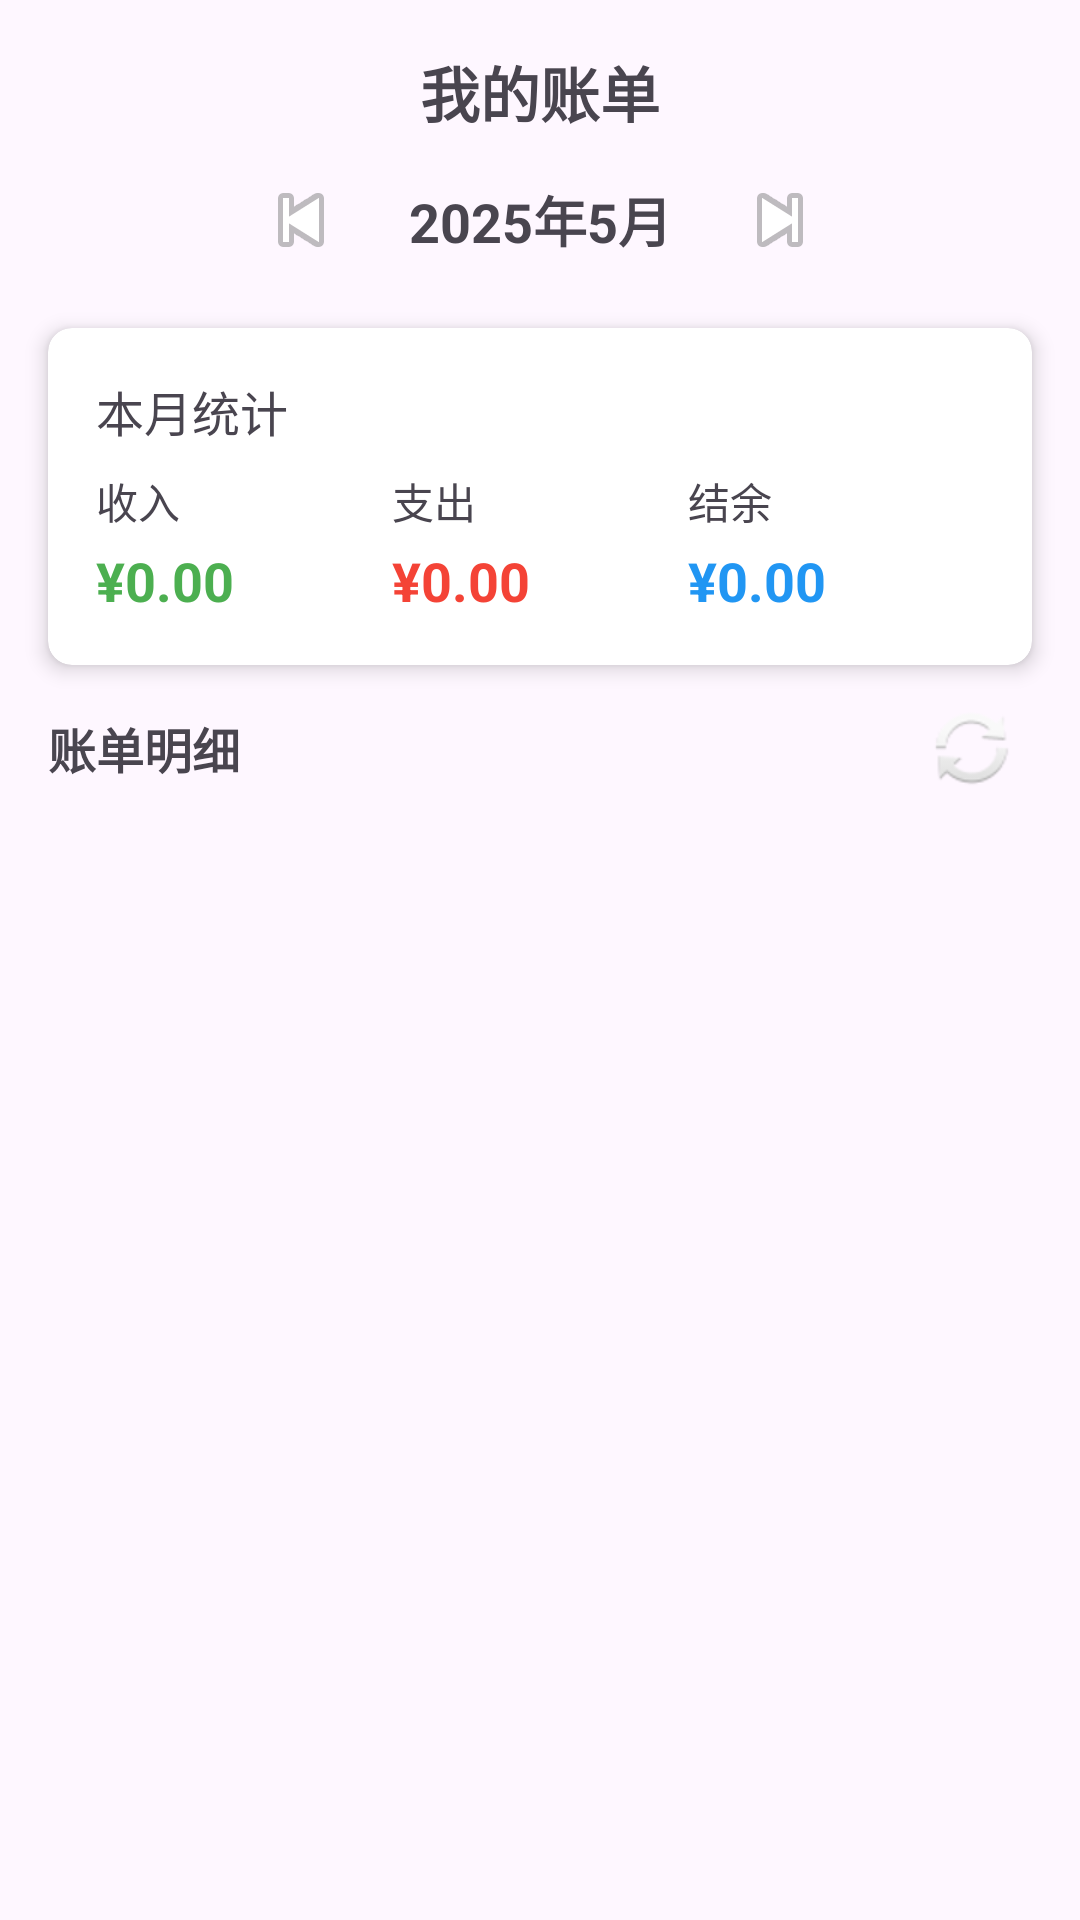

Where icons sit on this 1080px×1920px app screen, as BBox(x1, y1, x2, y2):
上个月: BBox(278, 193, 324, 247)
下个月: BBox(757, 193, 803, 247)
刷新: BBox(936, 720, 1007, 784)
